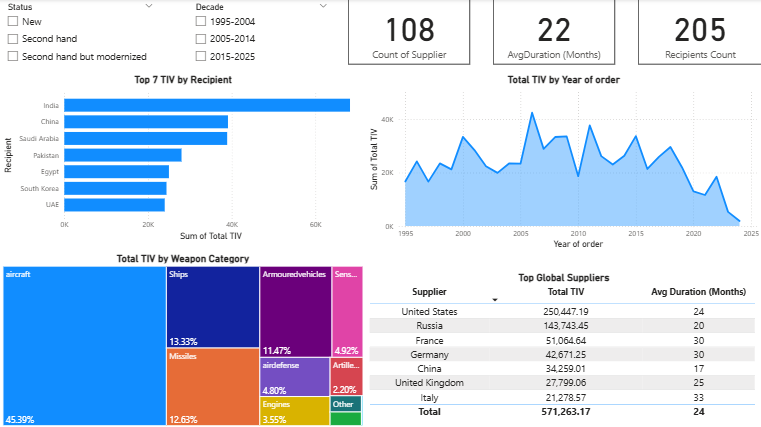

Layout of this report page (visuals, bound fields, positions):
{"tool":"powerbi","page":{"name":"Global Arms Trade","canvas":[1280,720],"ordinal":0},"visuals":[{"type":"clusteredBarChart","title":"Top 7 TIV by Recipient","fields":{"Category":["weapons exchange from 1995.Recipient"],"Y":["Sum(weapons exchange from 1995.Total TIV)"]},"box":[0,123.9,615.4,286.3],"z":0},{"type":"treemap","title":"Total TIV by Weapon Category","fields":{"Values":["Sum(weapons exchange from 1995.Total TIV)"],"Group":["weapons exchange from 1995.Category"]},"box":[0,424.4,614.7,296.4],"z":1000},{"type":"card","fields":{"Values":["Count(weapons exchange from 1995.Recipient)"]},"box":[1071,0,209.3,110.1],"z":2000},{"type":"card","fields":{"Values":["weapons exchange from 1995.AvgDuration_inMonth"]},"box":[827.4,0,205.1,110.1],"z":3000},{"type":"slicer","fields":{"Values":["weapons exchange from 1995.Decade"]},"box":[316.6,0,246.4,123.9],"z":4000},{"type":"slicer","fields":{"Values":["weapons exchange from 1995.Status"]},"box":[0,0,269.5,124.6],"z":5000},{"type":"card","fields":{"Values":["Count(weapons exchange from 1995.Supplier)"]},"box":[585.1,0,205.1,110.1],"z":6000},{"type":"areaChart","title":"Total TIV by Year of order","fields":{"Category":["weapons exchange from 1995.Year of order"],"Y":["Sum(weapons exchange from 1995.Total TIV)"]},"box":[615.4,123.9,664.9,300.1],"z":7000},{"type":"tableEx","title":"Top Global Suppliers","fields":{"Values":["weapons exchange from 1995.Supplier","Sum(weapons exchange from 1995.Total TIV)","weapons exchange from 1995.AvgDuration_inMonth"]},"box":[615.4,457,664.9,262.9],"z":8000}]}

Visuals, with their boxes in screenshot pixels (x1, y1, x2, y2), scaled from the page's 1280x720 canvas onto the 761x427 screenshot:
"Top 7 TIV by Recipient" clusteredBarChart: x1=0 y1=73 x2=366 y2=243
"Total TIV by Weapon Category" treemap: x1=0 y1=252 x2=365 y2=426
card - Count(weapons exchange from 1995.Recipient): x1=637 y1=0 x2=760 y2=65
card - weapons exchange from 1995.AvgDuration_inMonth: x1=492 y1=0 x2=614 y2=65
slicer - weapons exchange from 1995.Decade: x1=188 y1=0 x2=335 y2=73
slicer - weapons exchange from 1995.Status: x1=0 y1=0 x2=160 y2=74
card - Count(weapons exchange from 1995.Supplier): x1=348 y1=0 x2=470 y2=65
"Total TIV by Year of order" areaChart: x1=366 y1=73 x2=760 y2=251
"Top Global Suppliers" tableEx: x1=366 y1=271 x2=760 y2=426
